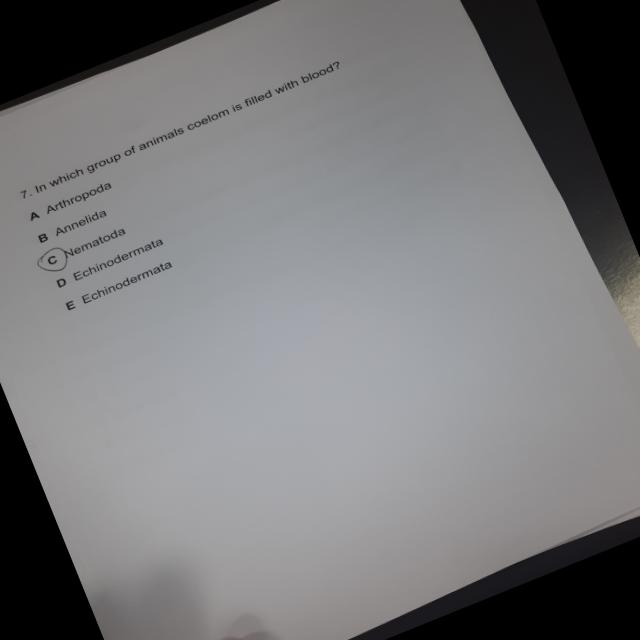C: (29, 242, 79, 282)
